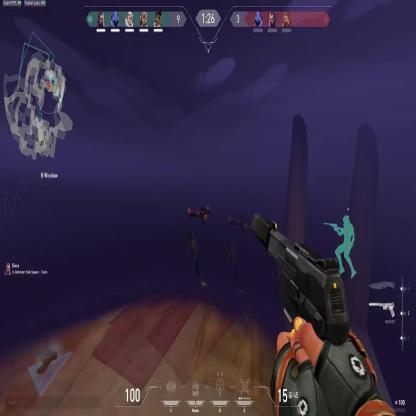enemy: (182, 188, 210, 286)
